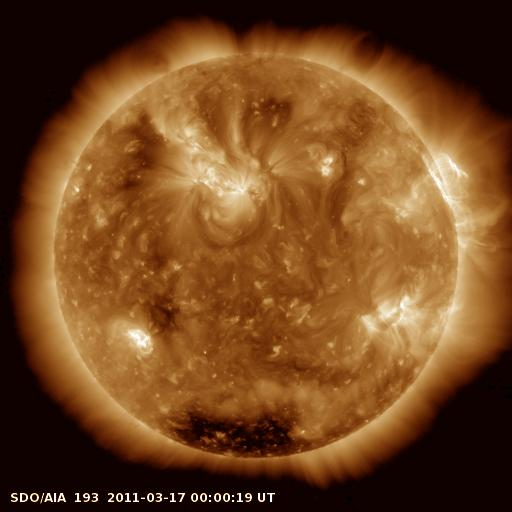coronal_hole: (158, 393, 315, 462)
